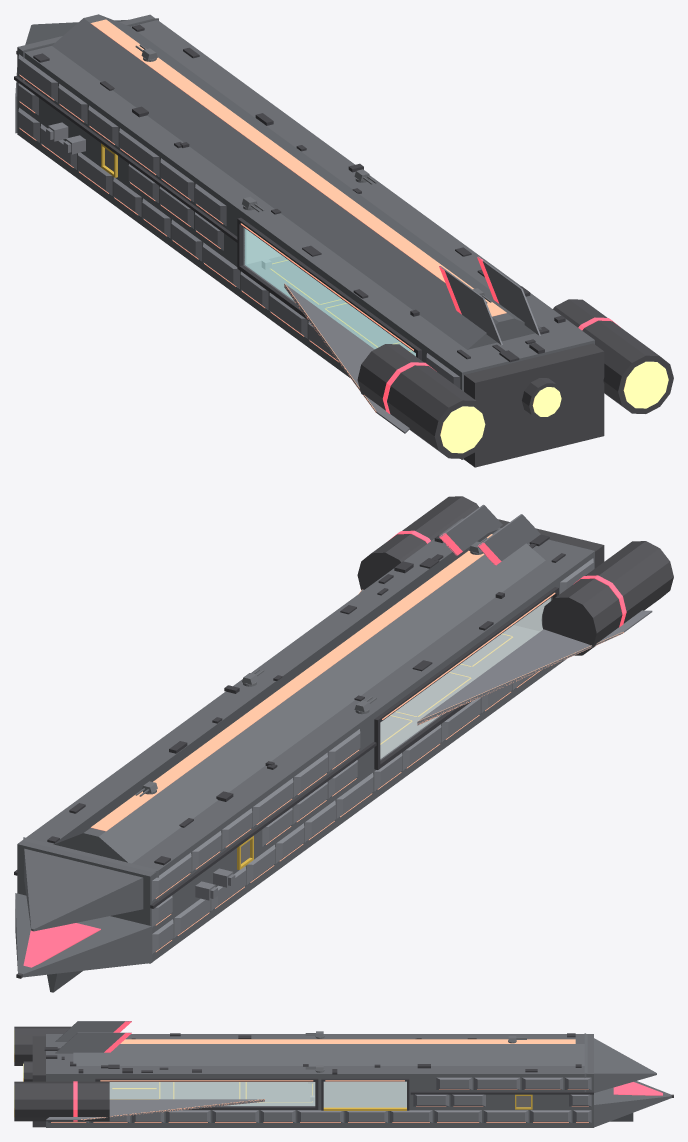
File: ship_MEDIUM_v1.glb
The picture shows the model from 3 angles, top to bottom: view 1: azimuth 30°, elevation 25°; view 2: azimuth 150°, elevation 25°; view 3: azimuth 270°, elevation 25°; orthographic projection. The views are drawn at different scales.
Parts seen in each view (by area): view 1: MEDIUM_Hull-col, MEDIUM_Engines, MEDIUM_Armor, MEDIUM_Lights, MEDIUM_HangarShield_Port, MEDIUM_EngineGlow, MEDIUM_Trim, MEDIUM_Decks-col, MEDIUM_Details, MEDIUM_Accent, MEDIUM_Interior-col; view 2: MEDIUM_Hull-col, MEDIUM_Armor, MEDIUM_Engines, MEDIUM_Lights, MEDIUM_HangarShield_Port, MEDIUM_Decks-col, MEDIUM_Trim, MEDIUM_Accent, MEDIUM_Details; view 3: MEDIUM_Hull-col, MEDIUM_Armor, MEDIUM_Engines, MEDIUM_HangarShield_Starboard, MEDIUM_Decks-col, MEDIUM_Lights, MEDIUM_Trim, MEDIUM_CargoBayShield, MEDIUM_CargoBayDoor-col, MEDIUM_Accent, MEDIUM_Details, MEDIUM_Hazard.
Part boxes in pixels (x1,y1,x2,y2): MEDIUM_Hull-col: [15, 14, 594, 459]; MEDIUM_Engines: [16, 51, 673, 467]; MEDIUM_Armor: [18, 54, 540, 433]; MEDIUM_Lights: [19, 19, 506, 412]; MEDIUM_HangarShield_Port: [244, 228, 415, 355]; MEDIUM_EngineGlow: [440, 361, 668, 453]; MEDIUM_Trim: [14, 76, 421, 360]; MEDIUM_Decks-col: [247, 256, 415, 355]; MEDIUM_Details: [33, 24, 565, 362]; MEDIUM_Accent: [382, 256, 620, 413]; MEDIUM_Interior-col: [246, 229, 281, 264]; MEDIUM_Hull-col: [15, 518, 594, 992]; MEDIUM_Armor: [152, 504, 652, 953]; MEDIUM_Engines: [16, 496, 673, 978]; MEDIUM_Lights: [91, 534, 623, 951]; MEDIUM_HangarShield_Port: [380, 598, 550, 758]; MEDIUM_Decks-col: [380, 625, 539, 757]; MEDIUM_Trim: [14, 587, 558, 908]; MEDIUM_Accent: [23, 530, 626, 967]; MEDIUM_Details: [47, 534, 565, 865]; MEDIUM_Hull-col: [46, 1033, 671, 1127]; MEDIUM_Armor: [46, 1021, 591, 1122]; MEDIUM_Engines: [14, 1026, 673, 1127]; MEDIUM_HangarShield_Starboard: [109, 1082, 315, 1105]; MEDIUM_Decks-col: [109, 1082, 315, 1105]; MEDIUM_Lights: [51, 1039, 588, 1122]; MEDIUM_Trim: [95, 1078, 593, 1110]; MEDIUM_CargoBayShield: [323, 1081, 406, 1107]; MEDIUM_CargoBayDoor-col: [323, 1081, 406, 1106]; MEDIUM_Accent: [73, 1021, 662, 1121]; MEDIUM_Details: [44, 1033, 581, 1074]; MEDIUM_Hazard: [110, 1082, 532, 1110].
Size of the model in its own units: 38.81 by 22.95 by 146.
